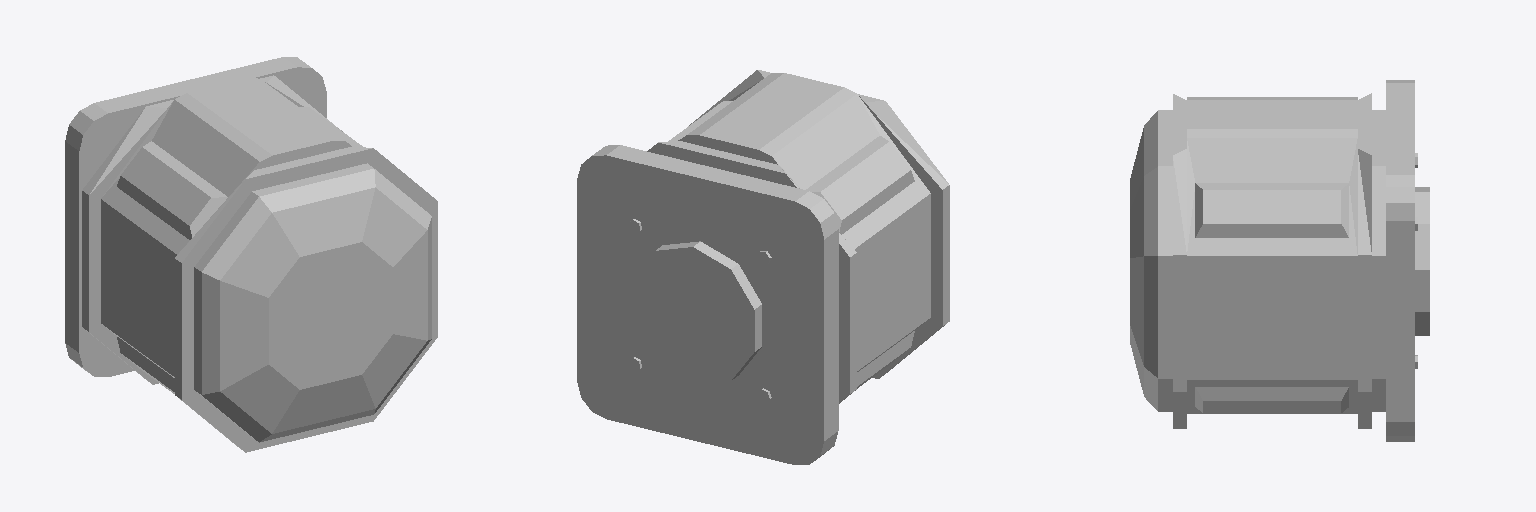
File: obj_interactive_scriptableController_mini.obj
3 views of the same model, side by side, from view 1: azimuth 30°, elevation 25°; view 2: azimuth 150°, elevation 25°; view 3: azimuth 270°, elevation 25° (orthographic).
Visible parts, largest first — view 1: Cube; view 2: Cube; view 3: Cube.
Boxes of the visible parts, box(x1,y1,x2,y2) form: Cube: box(65, 57, 437, 452); Cube: box(577, 70, 949, 464); Cube: box(1130, 80, 1429, 441).
Bounding box in the file's own units: 0.9778 × 1.04 × 0.992.